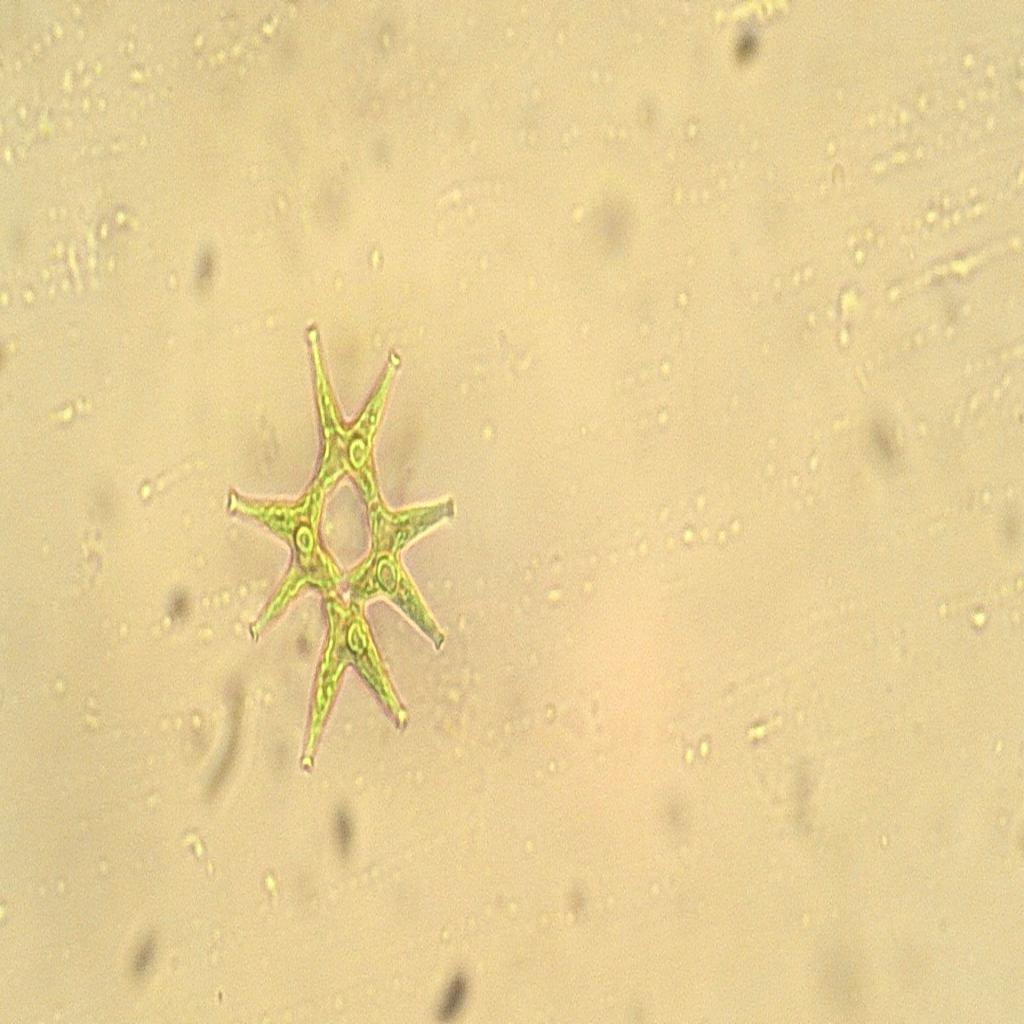Pediastrum_CF: (220, 292, 462, 796)
